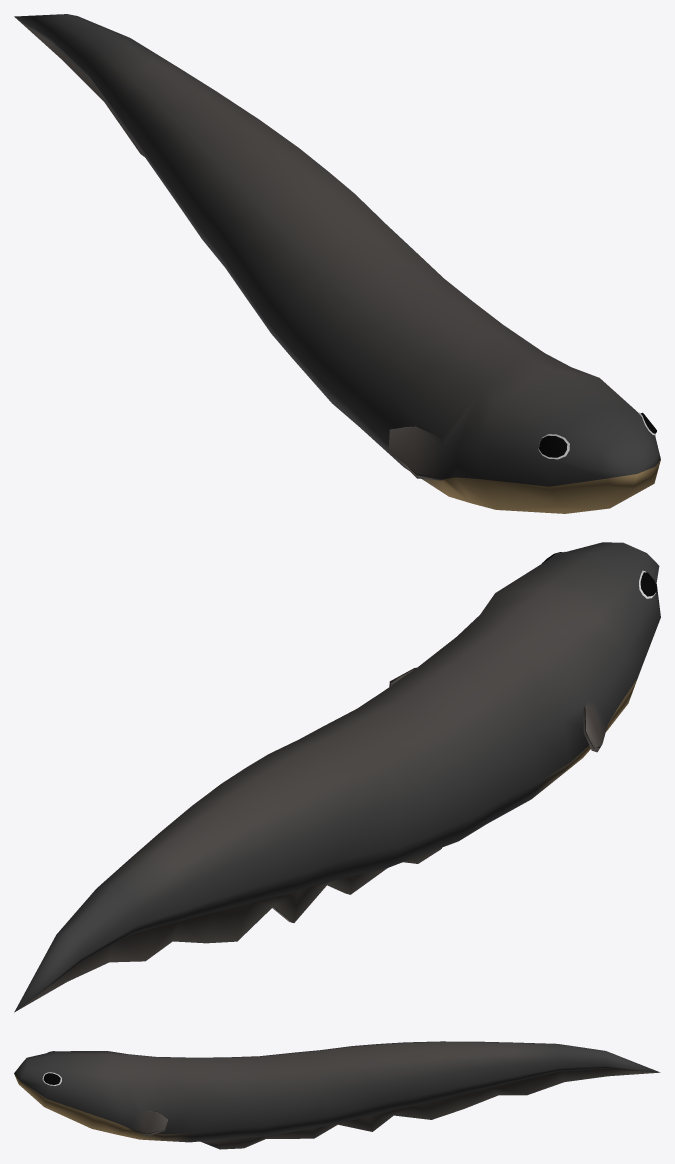
File: underwater-fish-eel_v1.fbx
3 views of the same model, one above another, from view 1: azimuth 30°, elevation 25°; view 2: azimuth 150°, elevation 25°; view 3: azimuth 270°, elevation 25° (orthographic). The views are drawn at different scales.
Visible parts, largest first — view 1: Eel; view 2: Eel; view 3: Eel.
Part boxes in pixels (x1,y1,x2,y2): Eel: (14,14,660,513); Eel: (14,542,660,1012); Eel: (14,1041,660,1149).
Bounding box in the file's own units: 0.1542 × 0.1451 × 0.8.
